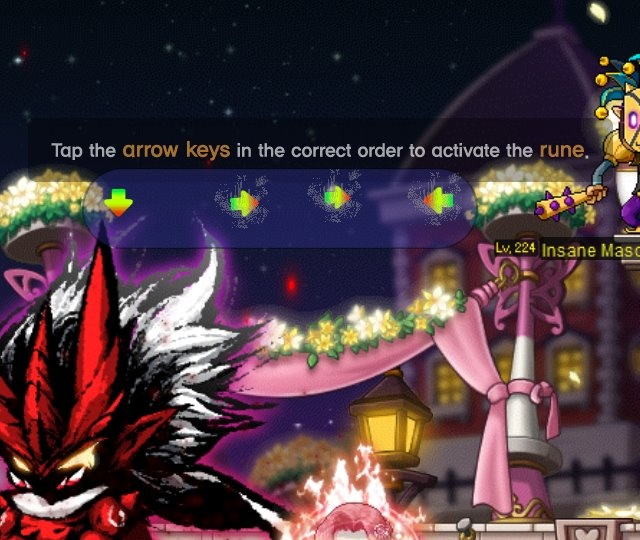rune_box: (74, 159, 493, 257)
